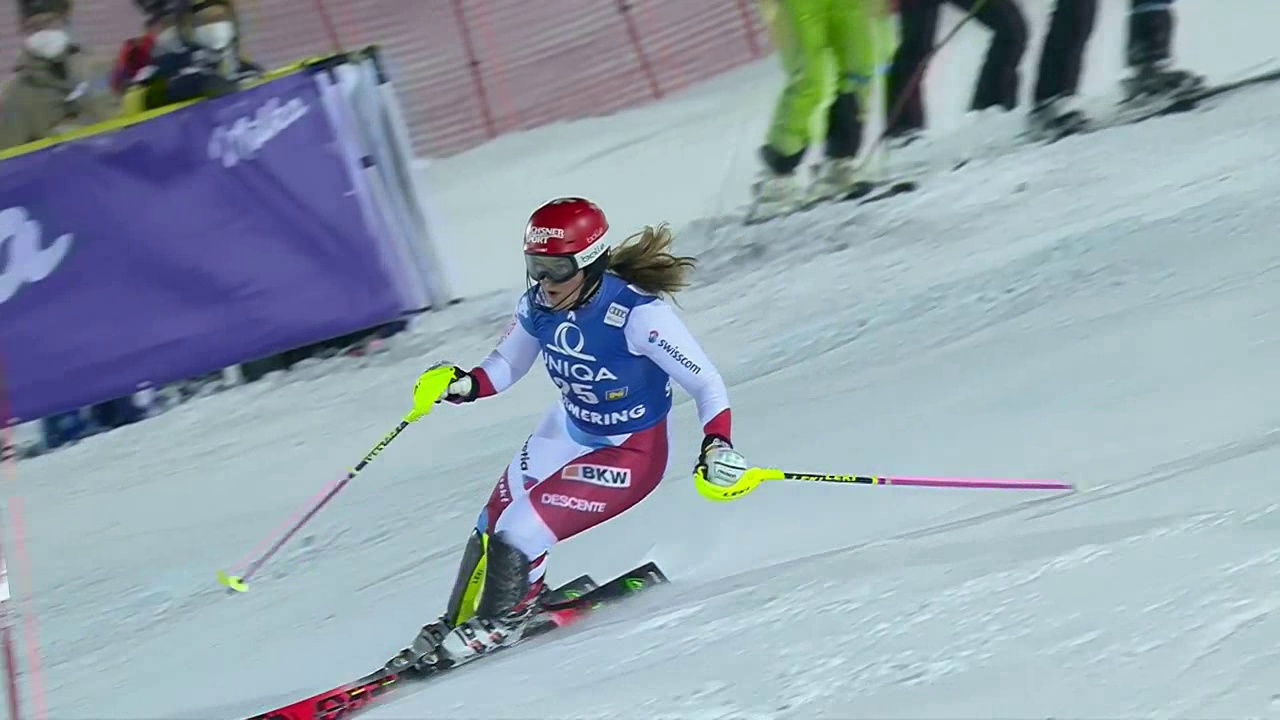milka: (1, 190, 89, 347), (200, 86, 313, 180)
uniqa: (542, 324, 613, 392)
